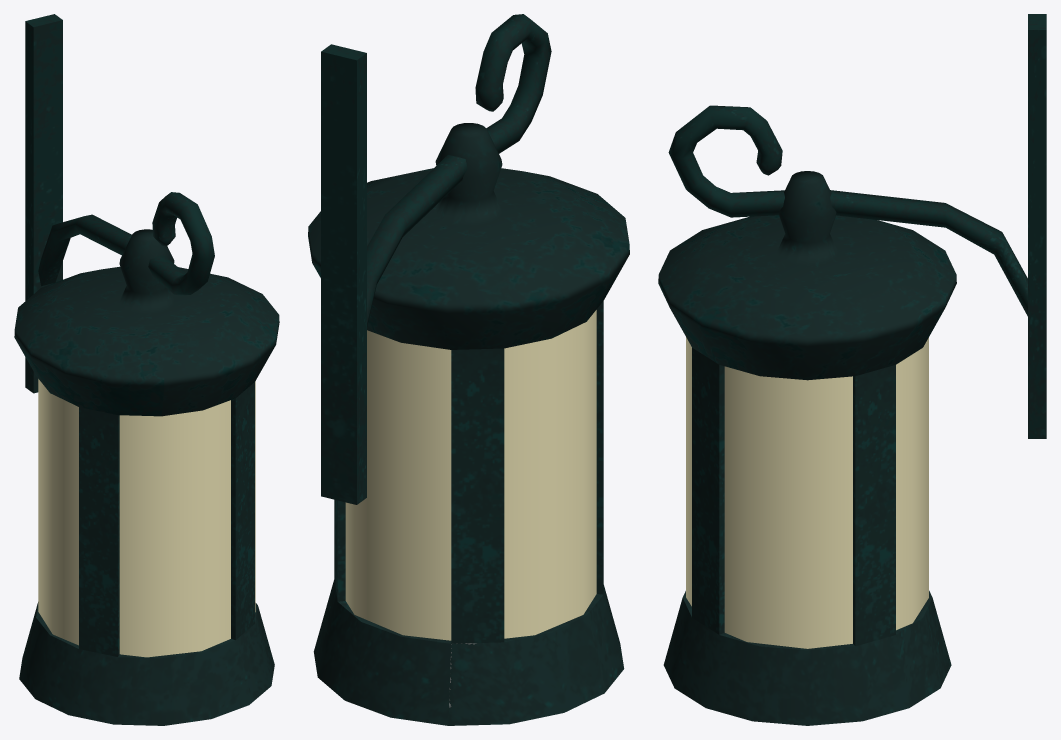
File: kantera.fbx
3 renders of one model, left to right at view 1: azimuth 30°, elevation 25°; view 2: azimuth 150°, elevation 25°; view 3: azimuth 270°, elevation 25°, orthographic. The views are drawn at different scales.
Parts seen in each view (by area): view 1: hontai, ranp; view 2: hontai, ranp; view 3: hontai, ranp.
Part boxes in pixels (x1,y1,x2,y2): hontai: (14,14,279,725); ranp: (38,379,255,657); hontai: (308,14,629,725); ranp: (345,310,596,640); hontai: (658,14,1046,725); ranp: (686,337,928,648).
Bounding box in the file's own units: 16.06 × 38.18 × 20.89.
2 materials, 2 textured.
